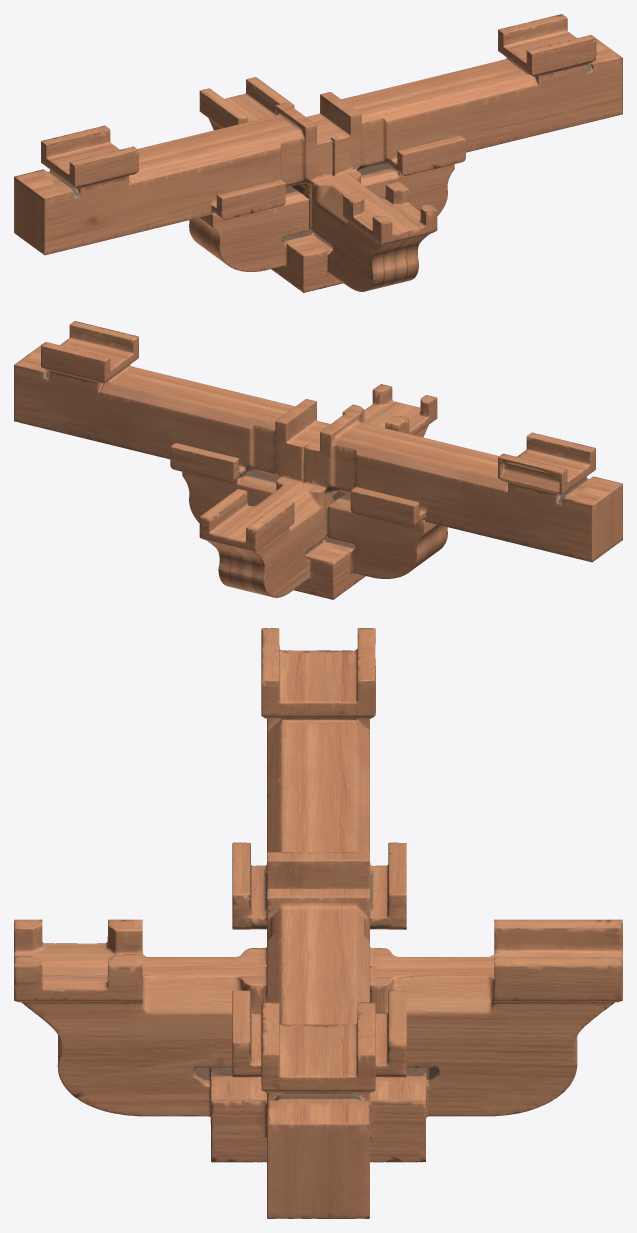
File: 2泥道栱、散斗与一跳华栱、散斗与交互斗与阑额一道柱头枋、散斗.glb
The picture shows the model from 3 angles, top to bottom: view 1: azimuth 30°, elevation 25°; view 2: azimuth 150°, elevation 25°; view 3: azimuth 270°, elevation 25°; orthographic projection. The views are drawn at different scales.
Bounding box in the file's own units: 1.9 × 0.5282 × 1.03.
Materials: 1 (1 with a texture image).
